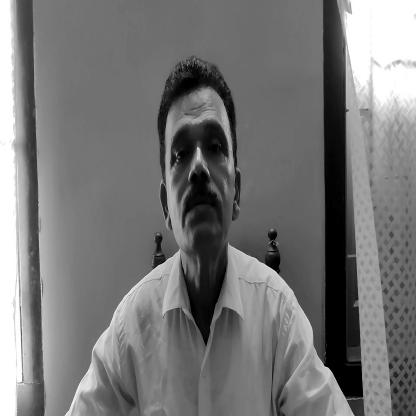Distracted: (154, 74, 249, 257)
